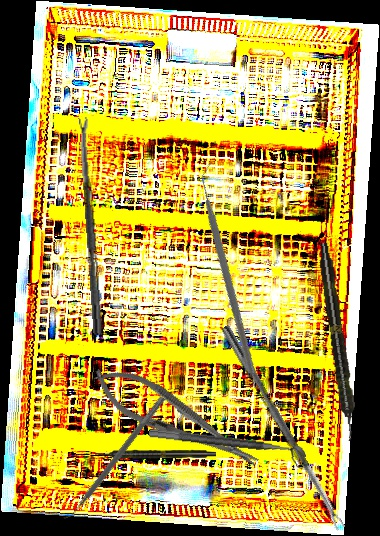Chopper: (124, 161, 339, 375)
Fixation Ring: (147, 427, 307, 470)
Handpiece: (315, 241, 360, 443), (95, 449, 216, 459)
Needle Holder: (83, 354, 268, 484)
Spatula Surgical: (60, 391, 166, 525)
Surgical Spoon: (219, 324, 346, 532), (78, 116, 104, 336)
